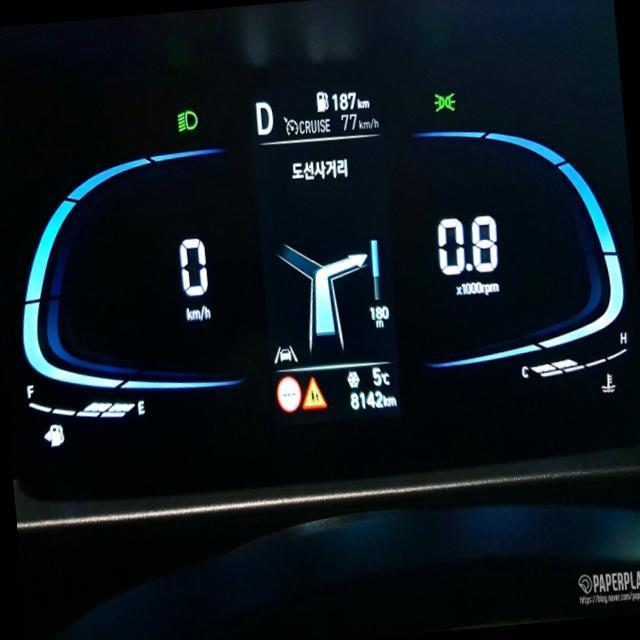LaneCenteringOff: (272, 343, 298, 364)
Low beam: (175, 109, 197, 132)
SideLamp: (432, 89, 456, 113)
